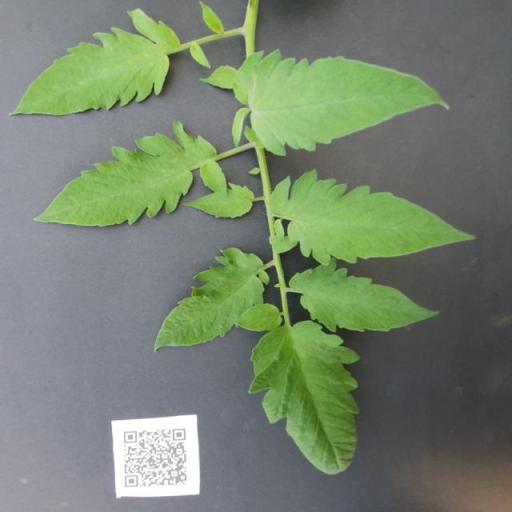Healthy: (248, 35, 450, 155), (34, 119, 228, 228), (267, 168, 477, 267), (10, 0, 180, 117), (248, 320, 360, 477), (288, 258, 442, 334), (154, 246, 264, 352), (180, 184, 254, 220), (236, 303, 283, 333)
